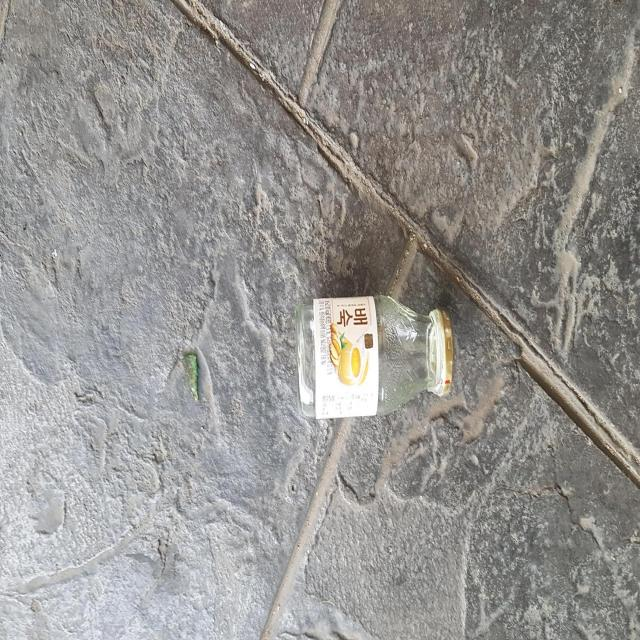glass: (296, 295, 454, 418)
